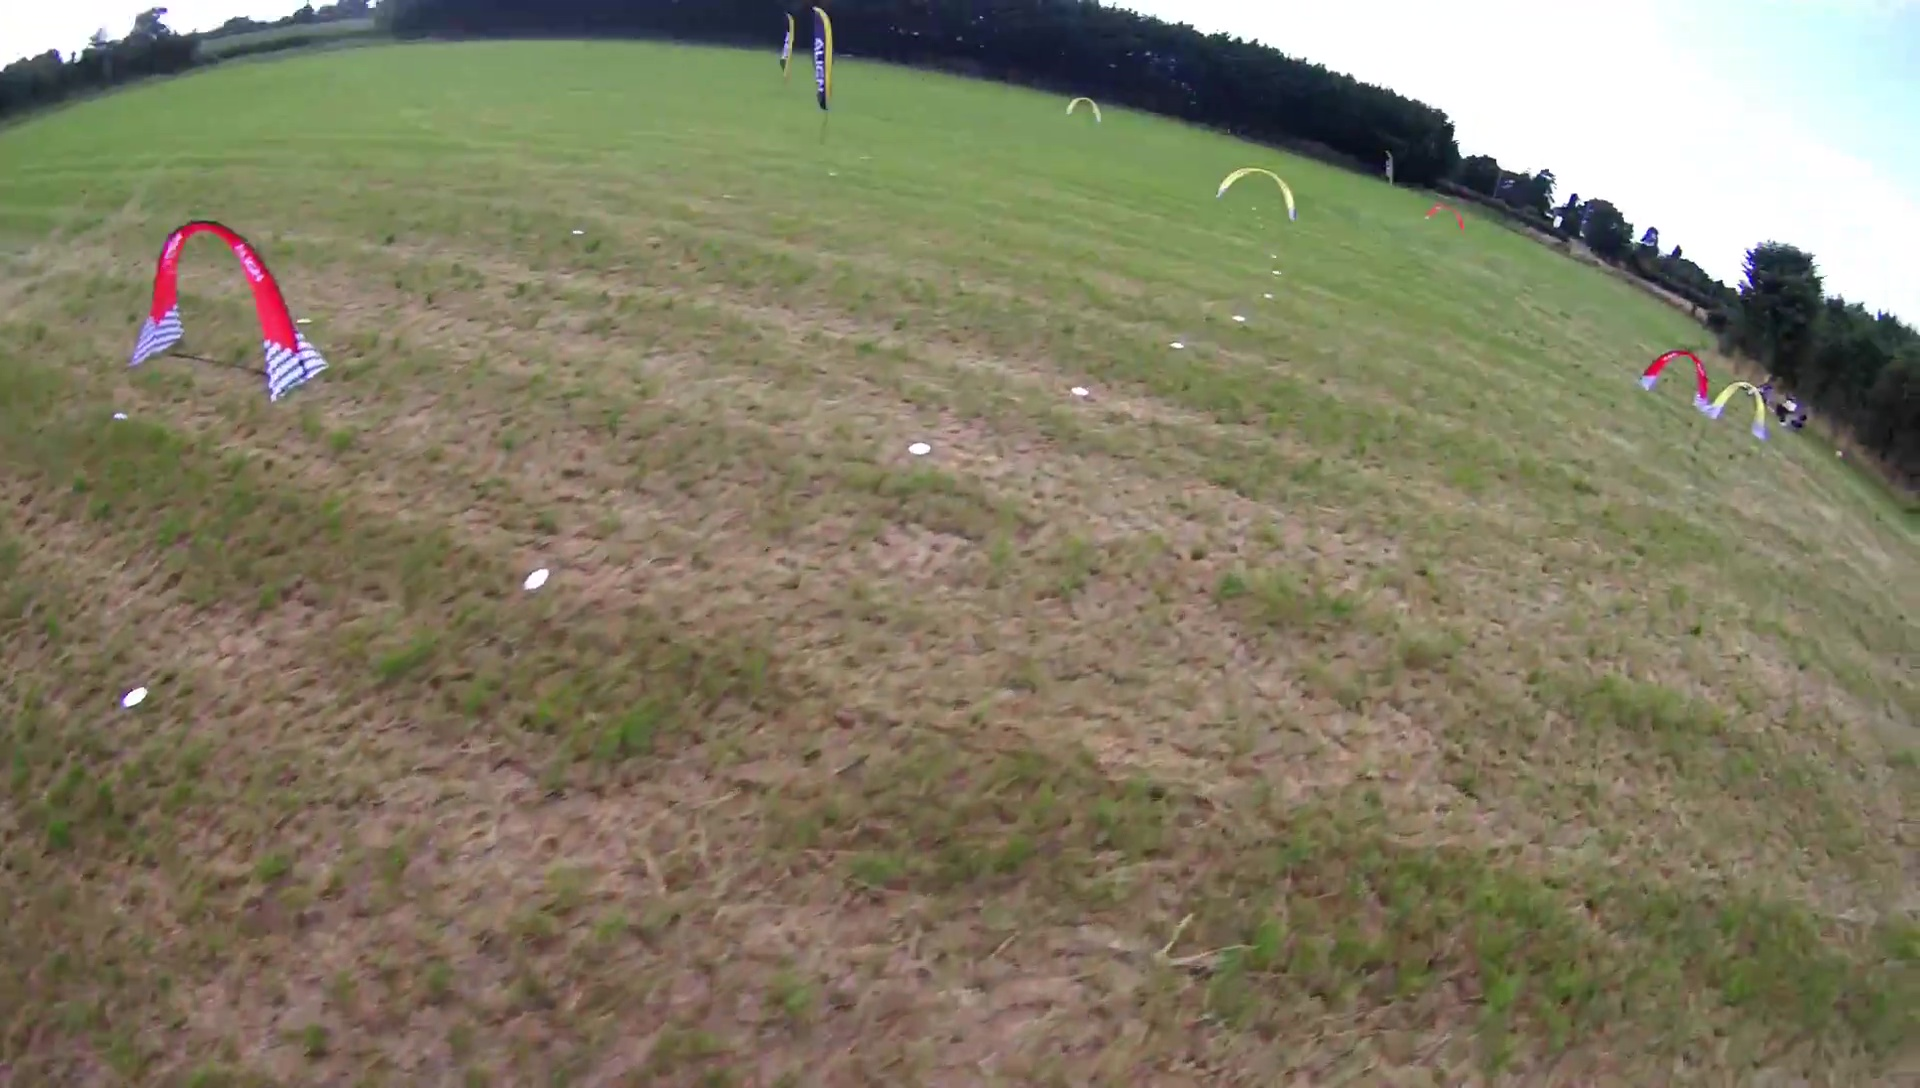gate: (131, 216, 332, 406), (1215, 164, 1299, 226), (1639, 348, 1712, 418), (1712, 378, 1768, 442), (1422, 202, 1469, 233), (1063, 94, 1105, 125)
